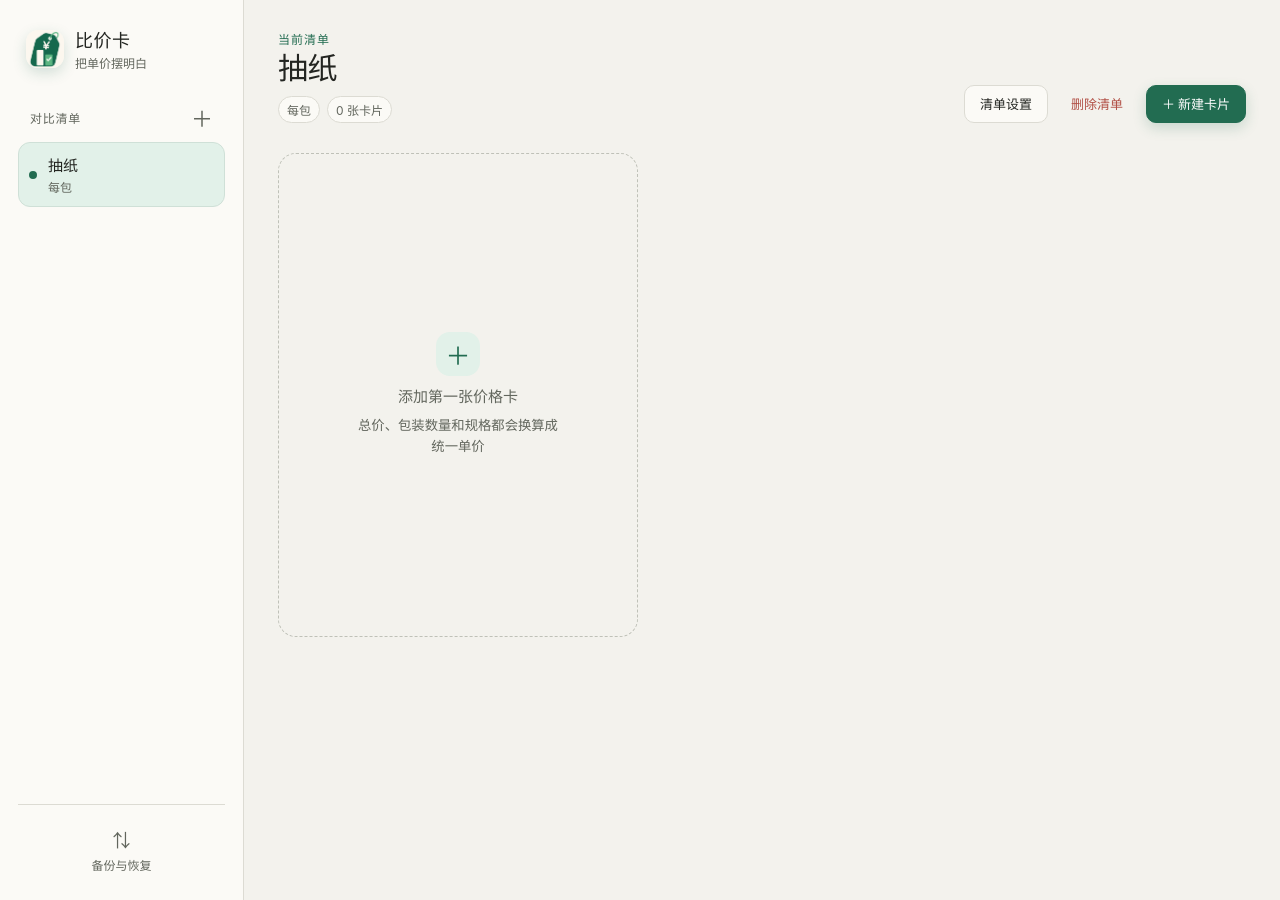
Test: App › 清单设置读取当前基准，新建清单使用默认容量
The width and height of the screenshot is (1280, 900).
Expected: the heading "抽纸" is shown, [278,50,337,86]
Expected: the text "每包" is shown 2 times, [48,180,72,195]; [278,96,320,123]
Click the button "清单设置": click(1006, 104) [964,85,1048,123]
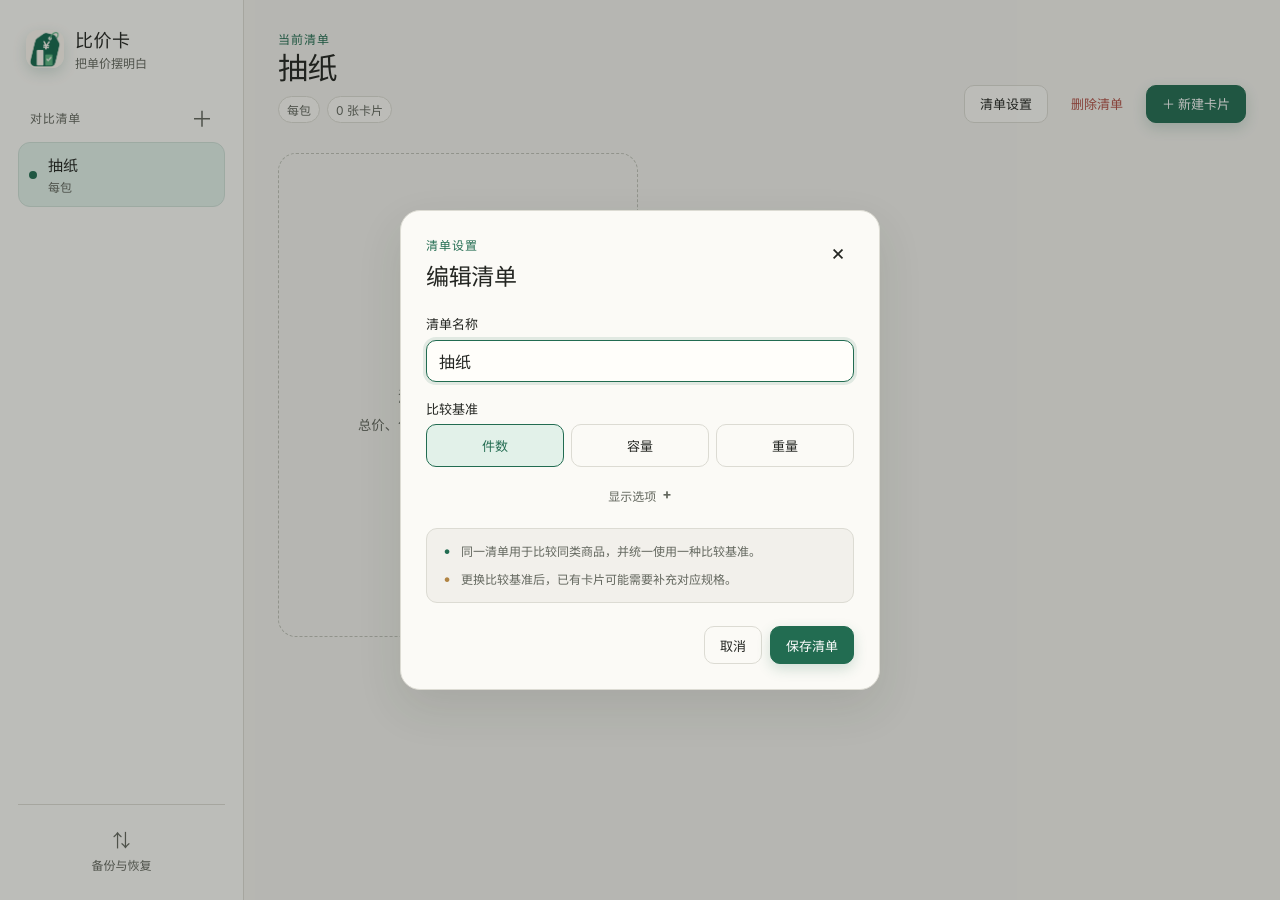
Expected: the radio button labelled "件数" is checked, [426,424,564,467]
Expected: the text "显示选项" is shown, [608,487,656,504]
Click the heading "显示选项": click(640, 495) [596,481,684,510]
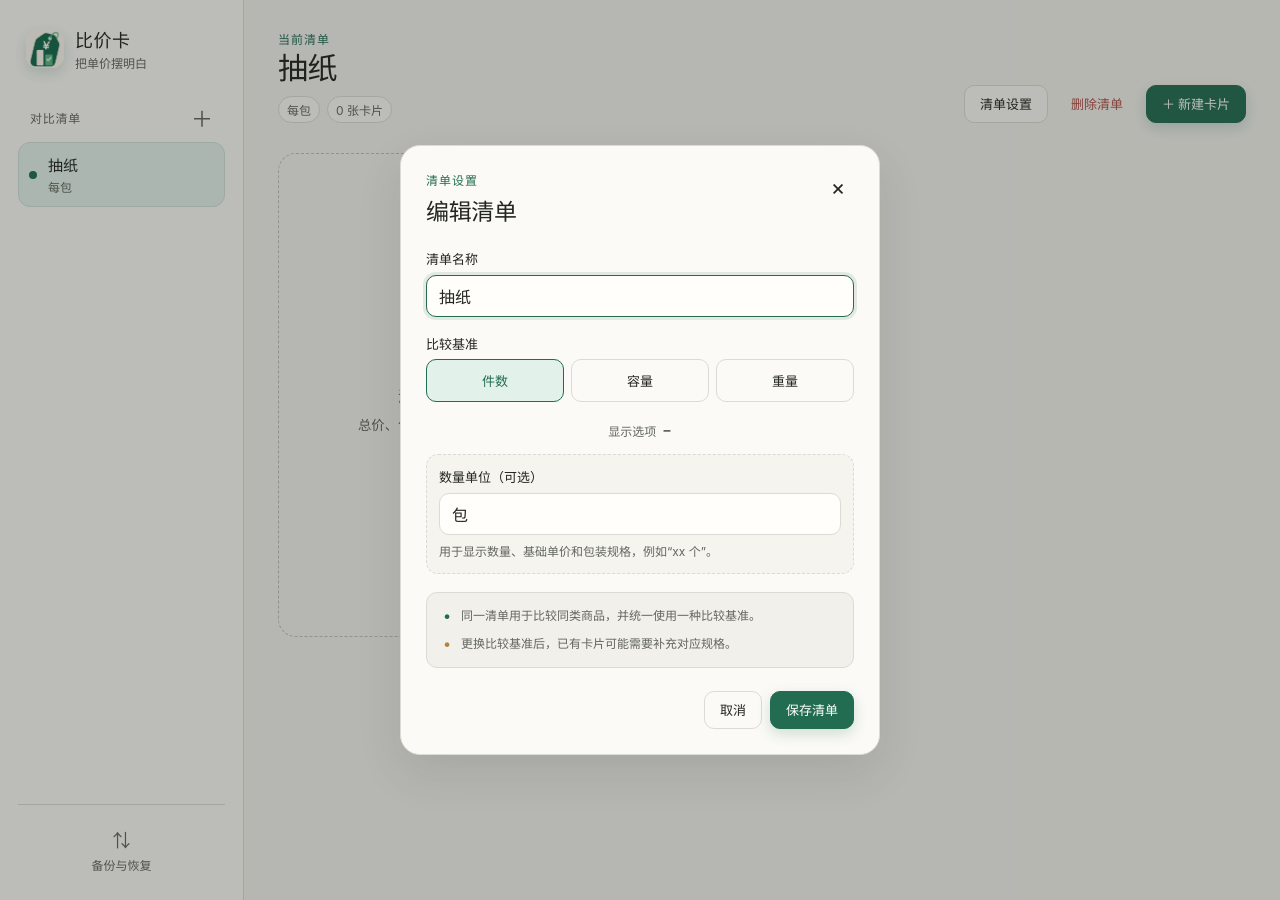
Expected: the text "同一清单用于比较同类商品，并统一使用一种比较基准。" is shown, [461,608,761,623]
Expected: the text "更换比较基准后，已有卡片可能需要补充对应规格。" is shown, [461,636,737,651]
Expected: the field labelled "数量单位（可选）" holds "包", [439,493,841,535]
Click the button "取消": click(733, 710) [704,691,762,729]
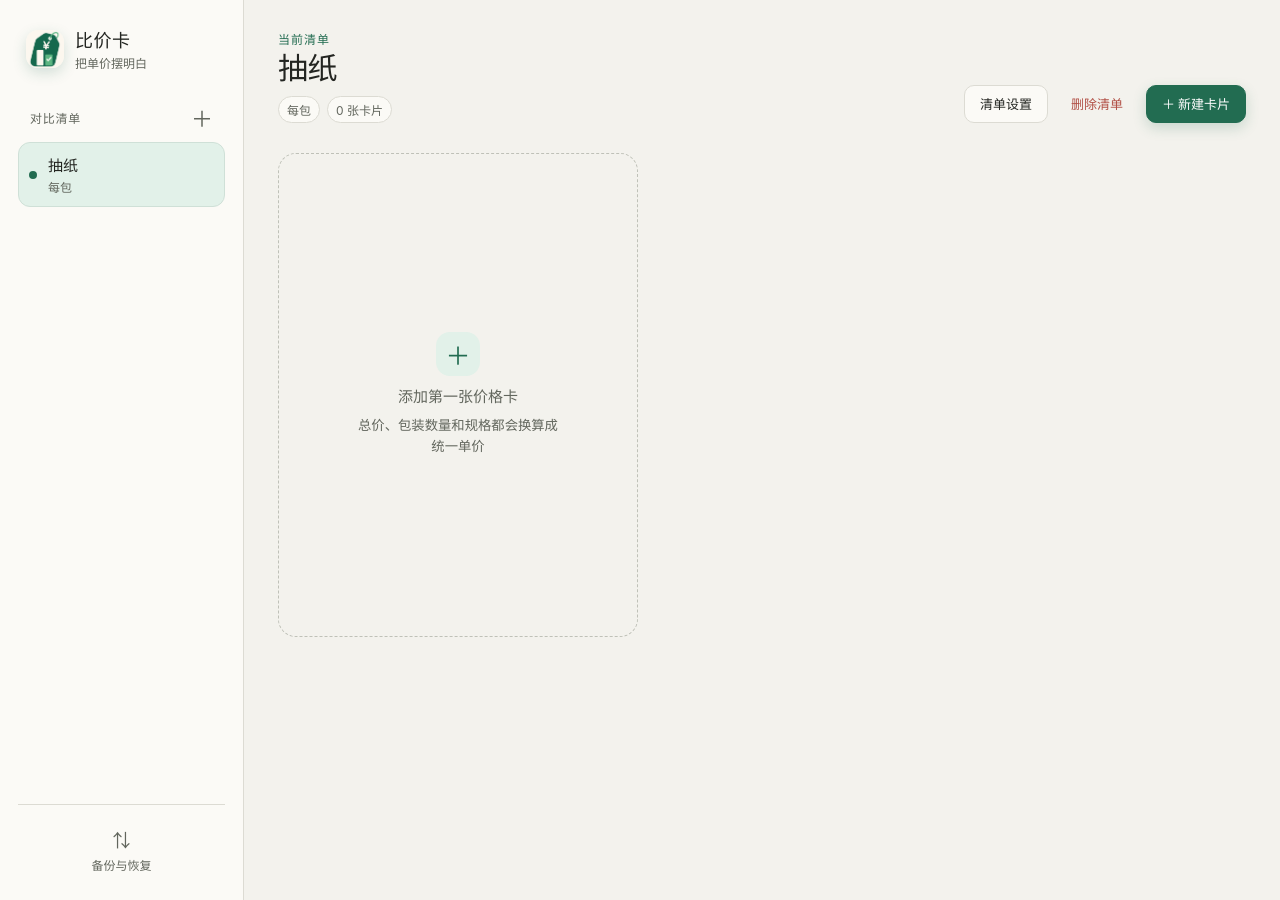
Click the button named "新建清单": click(202, 117) [186,101,218,133]
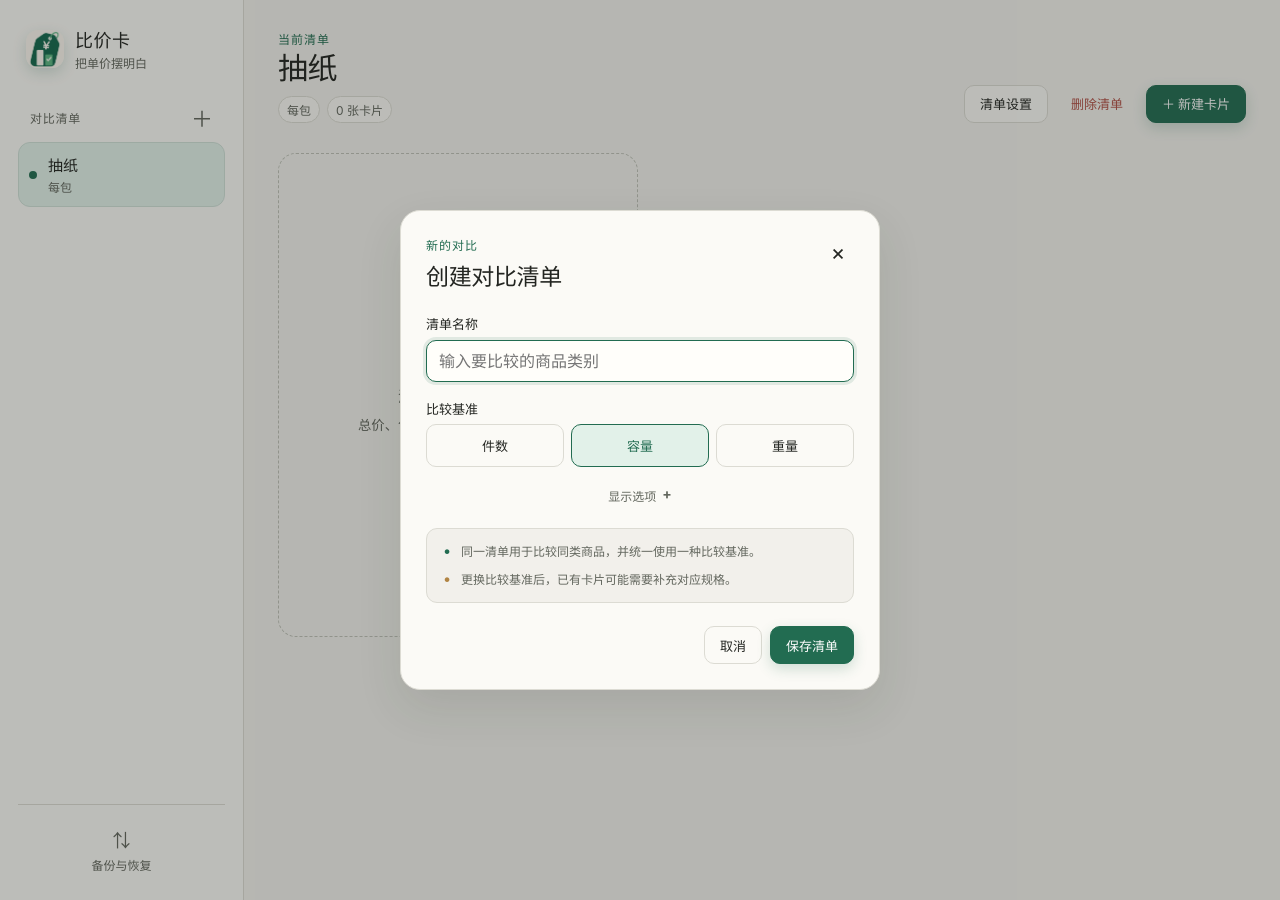
Expected: the radio button labelled "容量" is checked, [571,424,709,467]
